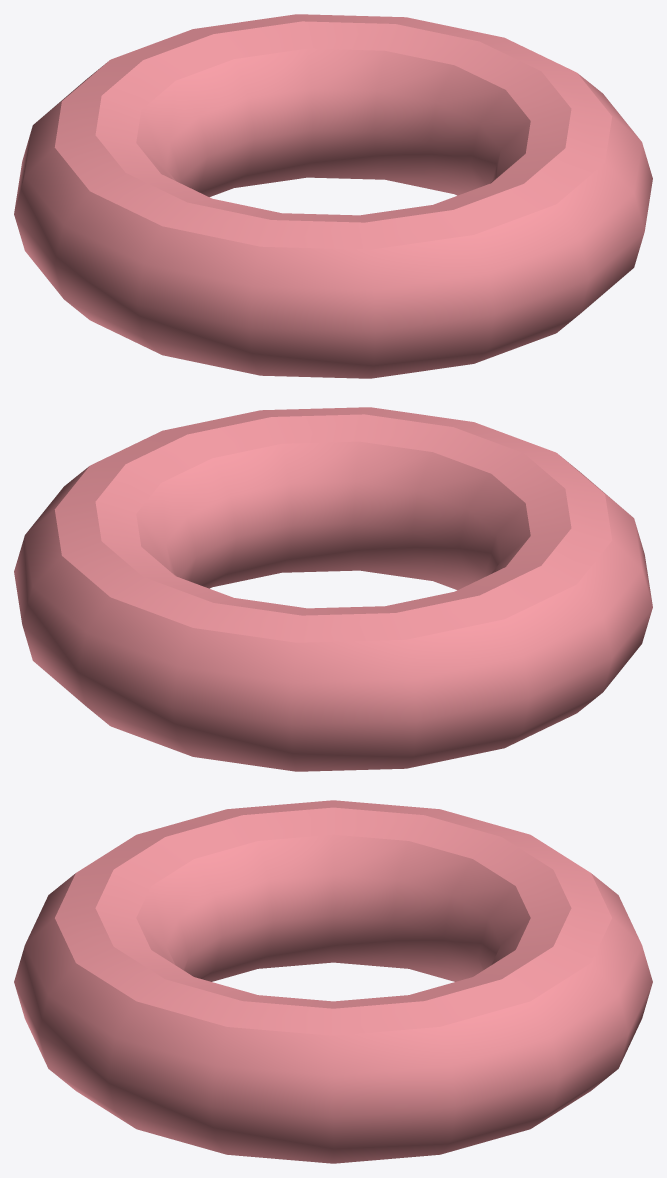
File: Donut.fbx
The picture shows the model from 3 angles, top to bottom: view 1: azimuth 30°, elevation 25°; view 2: azimuth 150°, elevation 25°; view 3: azimuth 270°, elevation 25°; orthographic projection.
Visible parts, largest first — view 1: Donut; view 2: Donut; view 3: Donut.
Part boxes in pixels (box(x1,y1,x2,y2)): Donut: box(14, 14, 652, 378); Donut: box(14, 407, 652, 771); Donut: box(14, 800, 652, 1163).
Bounding box in the file's own units: 56.02 × 14.29 × 56.02.
